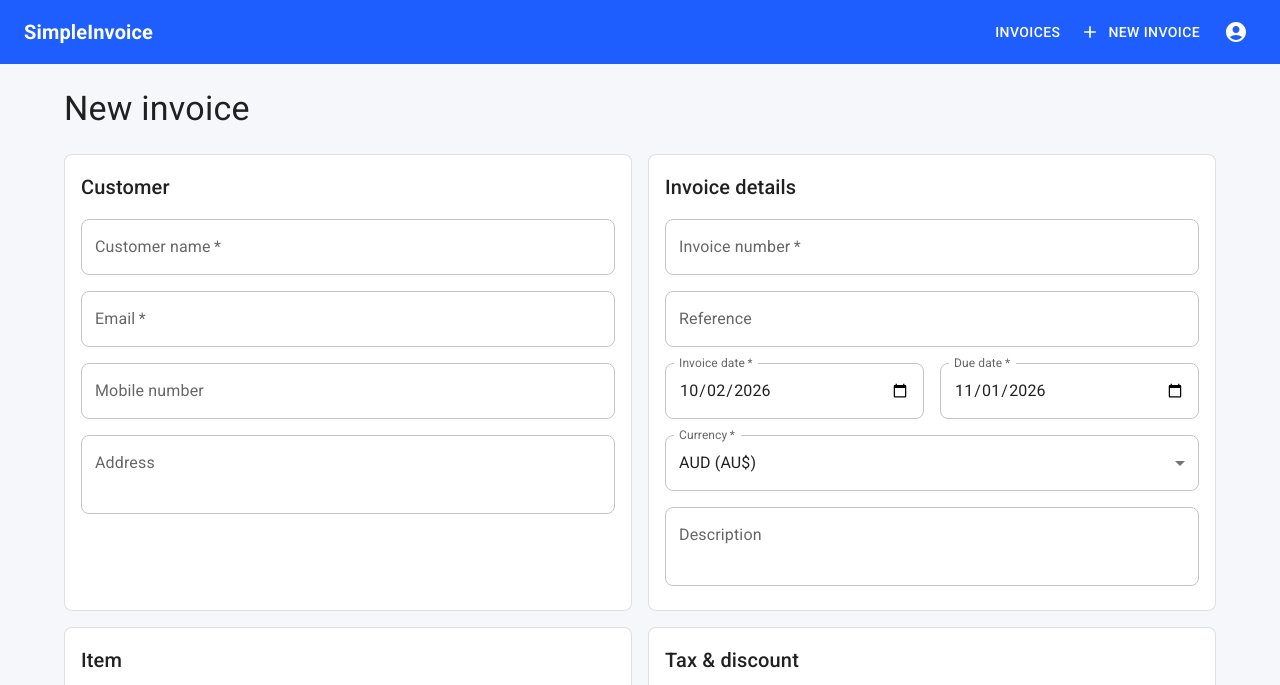
Test: CreateInvoicePage › rejects a Due Date before the Invoice Date
This screenshot has width=1280, height=685.
In the date field labelled "Due date *": {"x": 1070, "y": 391} [940, 363, 1199, 419], type "2026-10-01"
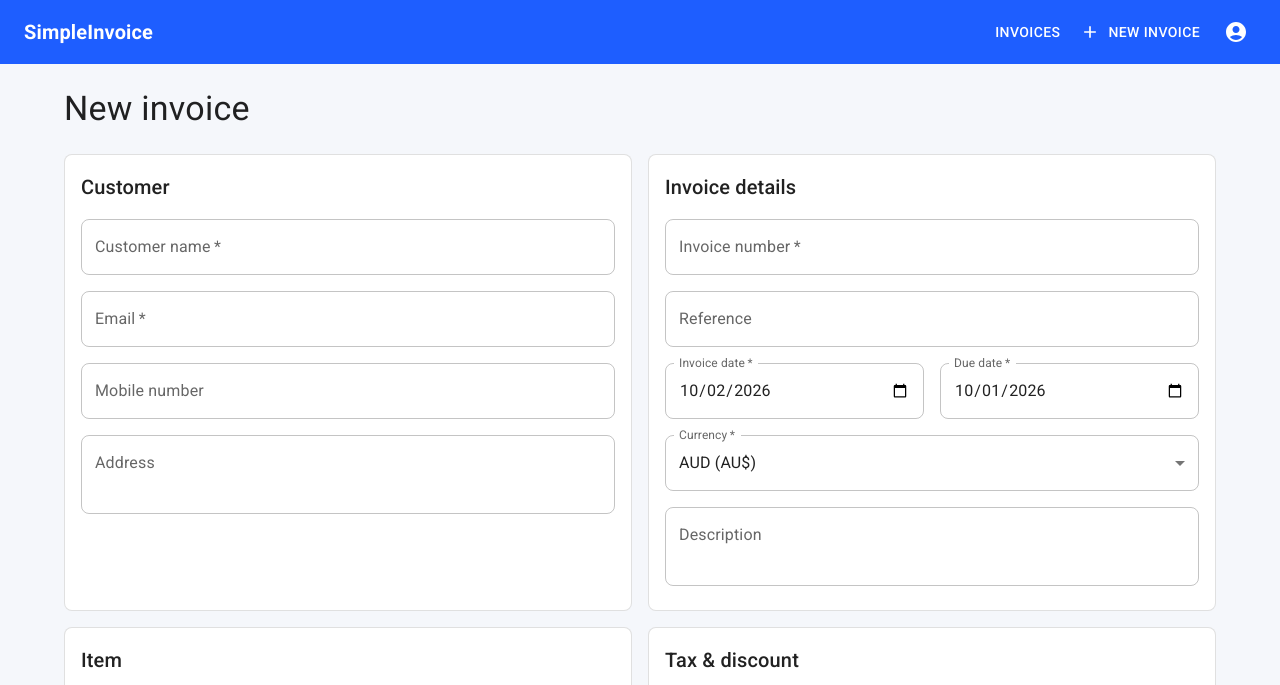
Leave the date field labelled "Due date *", box [940, 363, 1199, 419]
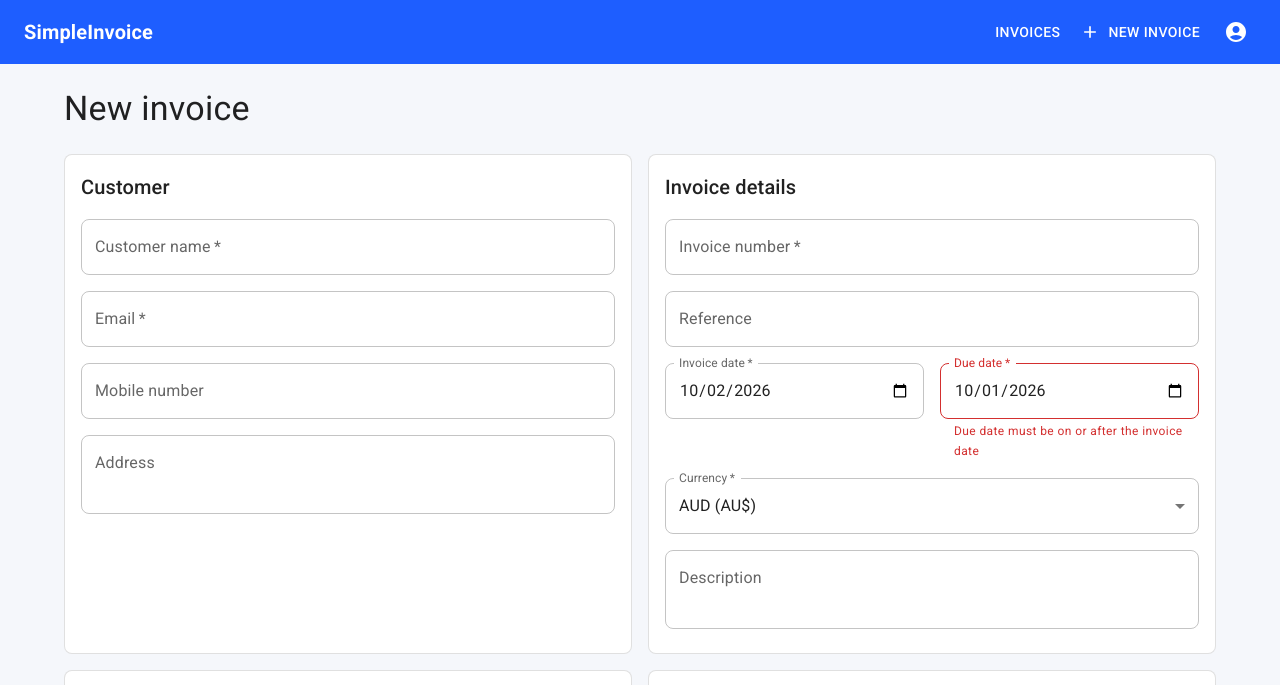
Result: the text "Due date must be on or after the invoice date" is shown at [954, 422, 1185, 462]
